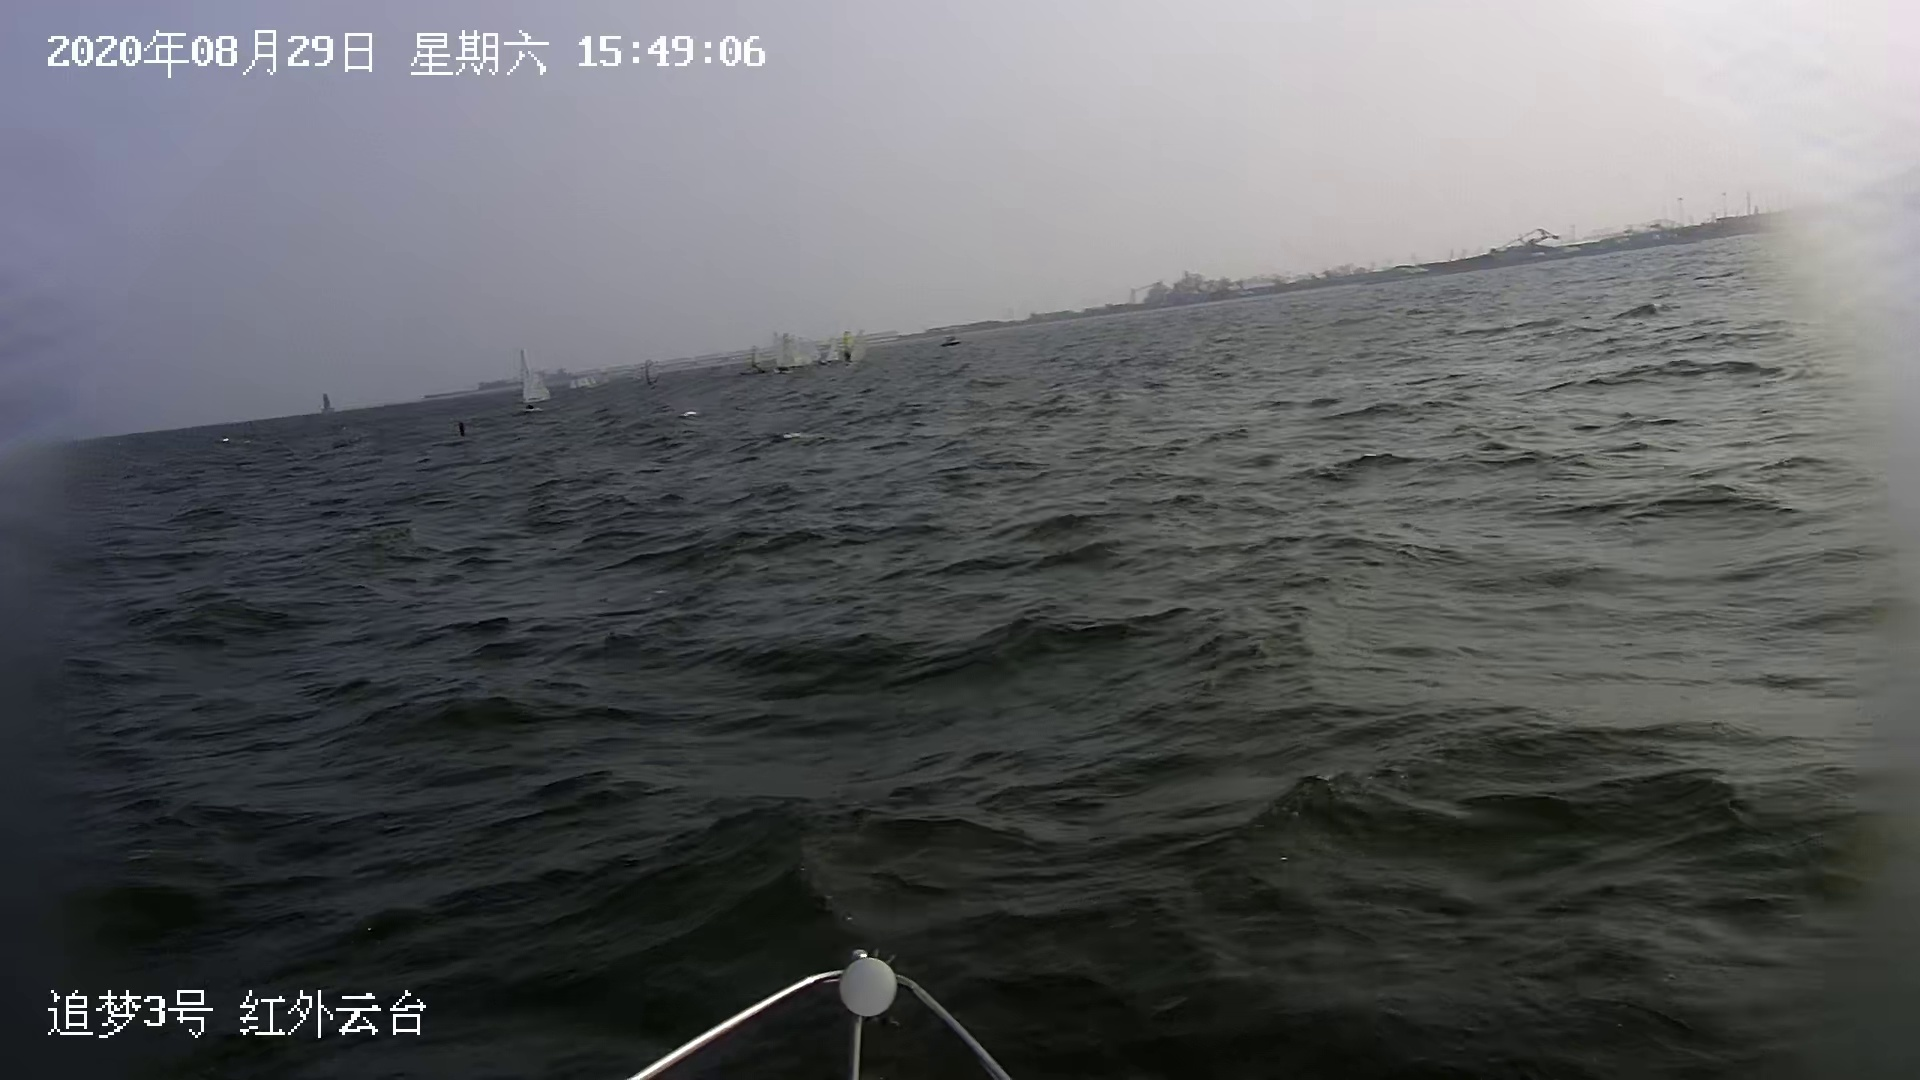barrier: (514, 345, 553, 414), (843, 324, 869, 368), (771, 330, 794, 373), (570, 371, 611, 394), (785, 332, 808, 368), (641, 357, 665, 386), (746, 344, 767, 375), (800, 336, 822, 364), (825, 332, 839, 365), (323, 393, 338, 414), (942, 334, 961, 347)
coast: (415, 140, 1920, 400)
